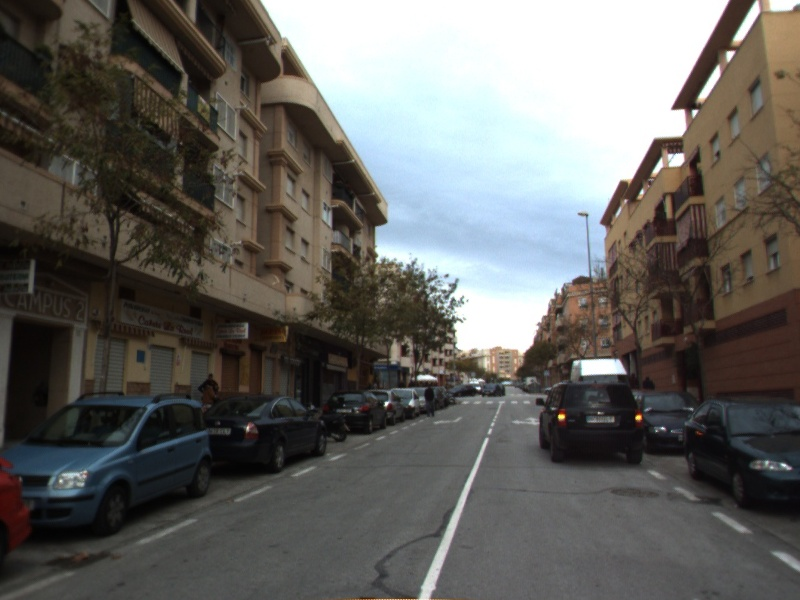STRAIGHT_LEFT: (509, 414, 541, 427)
